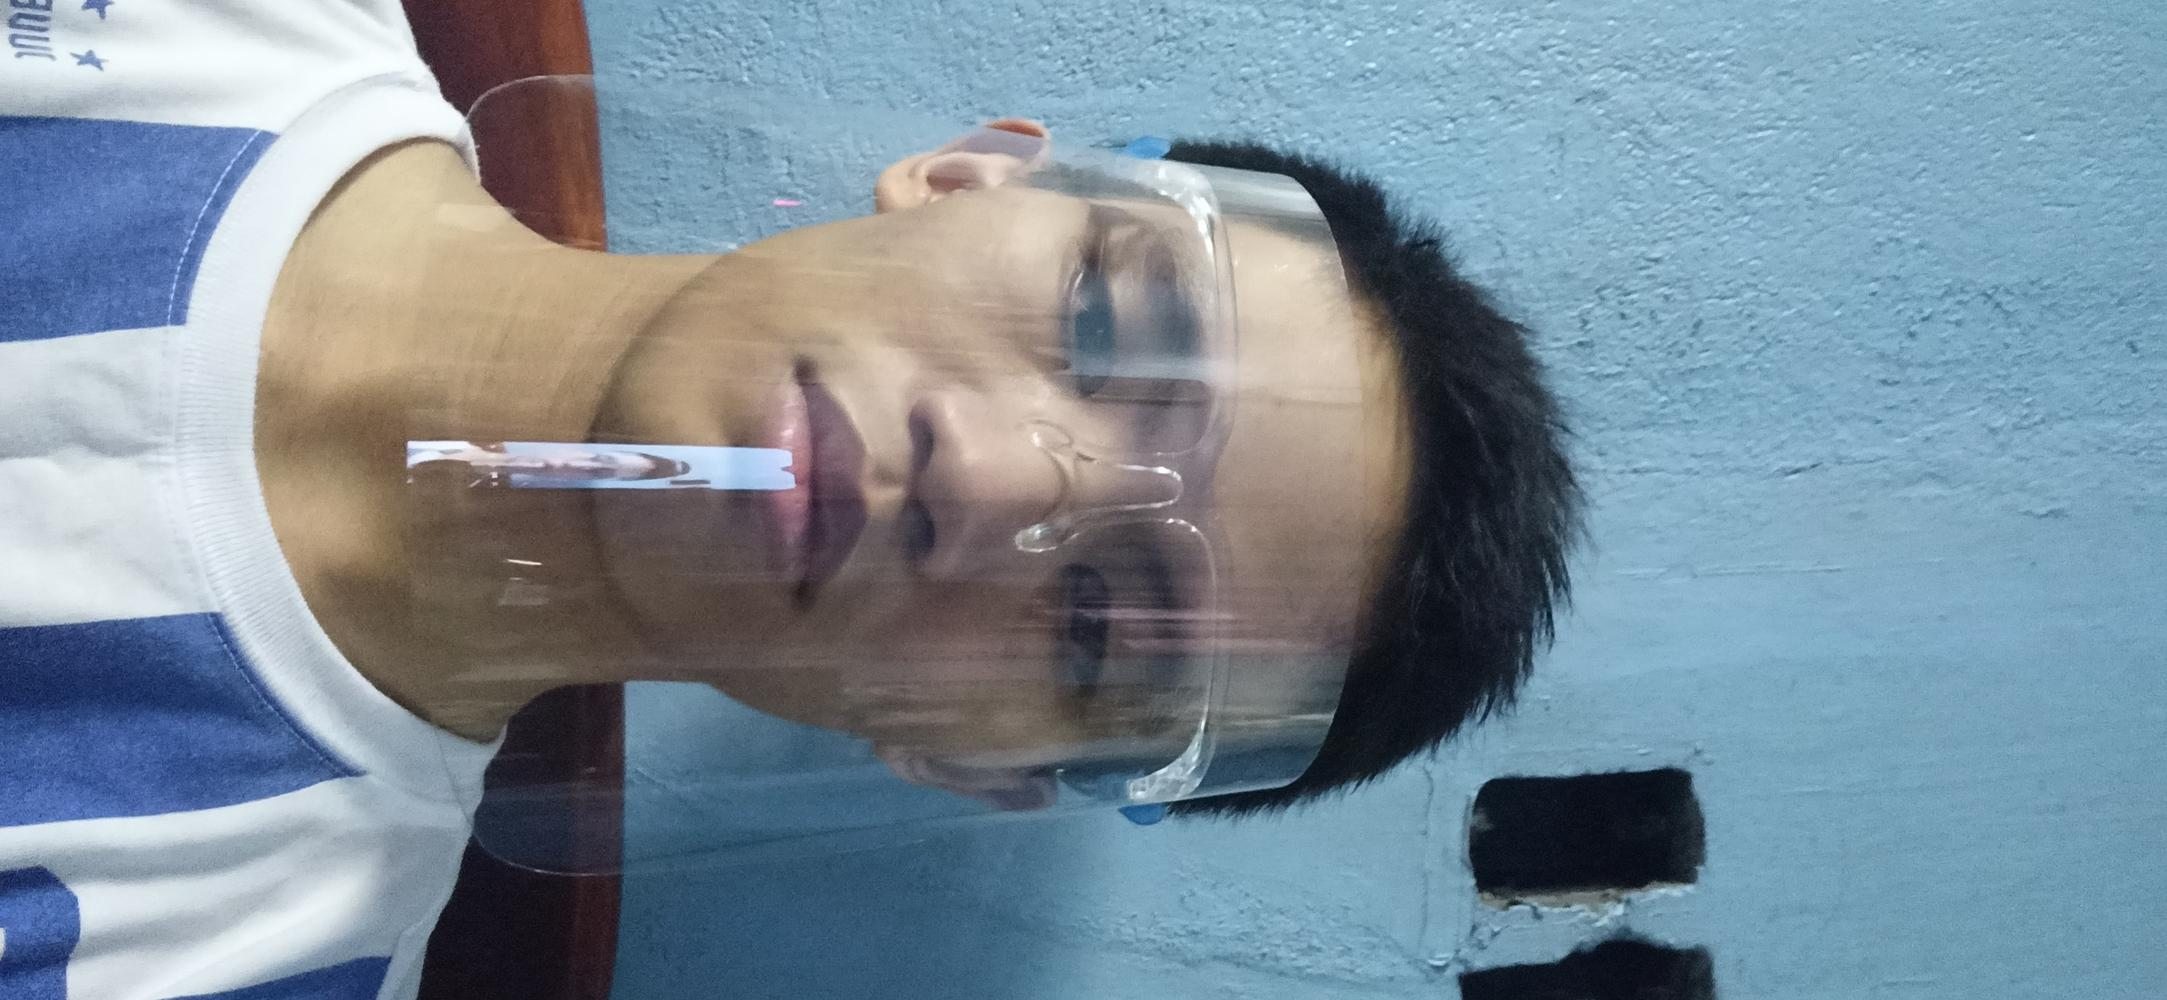Face Shield: (428, 72, 1348, 846)
Undefined Object: (3, 4, 433, 1000)
